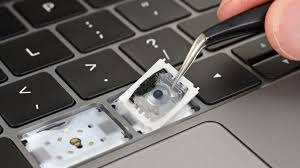keyboard: (0, 0, 218, 168)
